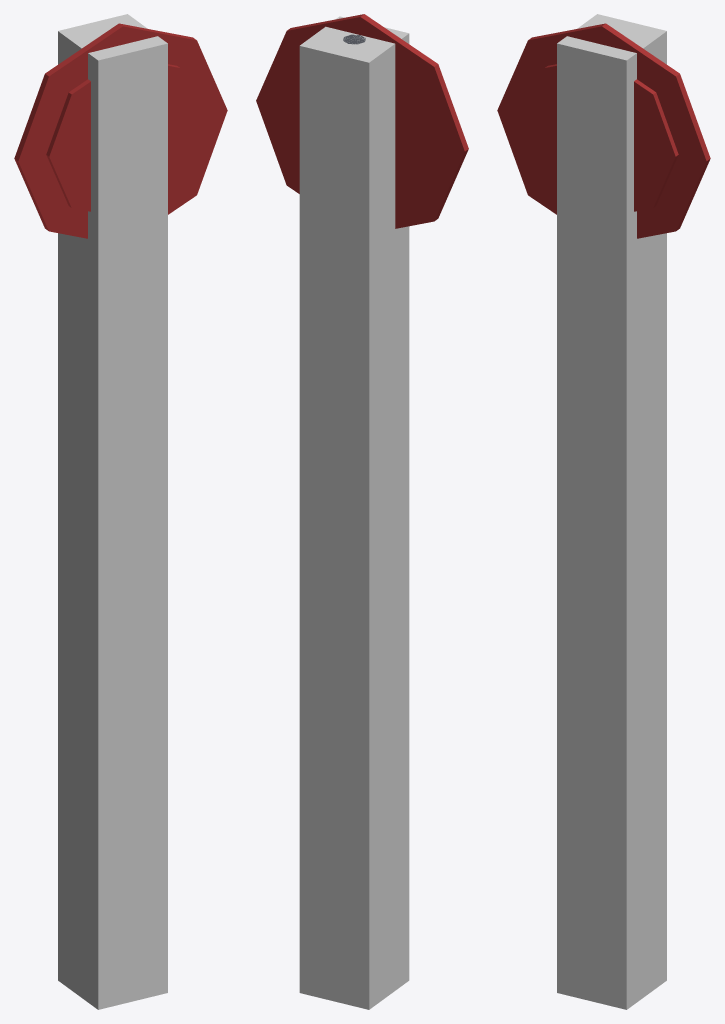
File: sign_stop.glb
3 renders of one model, left to right at view 1: azimuth 30°, elevation 25°; view 2: azimuth 150°, elevation 25°; view 3: azimuth 330°, elevation 25°, orthographic.
Visible parts, largest first — view 1: sign_stop-col, sign_stop_mesh; view 2: sign_stop-col, sign_stop_mesh; view 3: sign_stop-col, sign_stop_mesh.
Part boxes in pixels (x1,y1,x2,y2): sign_stop-col: (58,14,167,1009); sign_stop_mesh: (14,23,227,238); sign_stop-col: (299,16,409,1009); sign_stop_mesh: (256,14,468,228); sign_stop-col: (557,14,666,1009); sign_stop_mesh: (497,23,710,238).
Size of the model in its own units: 0.6 by 2.65 by 0.2.
